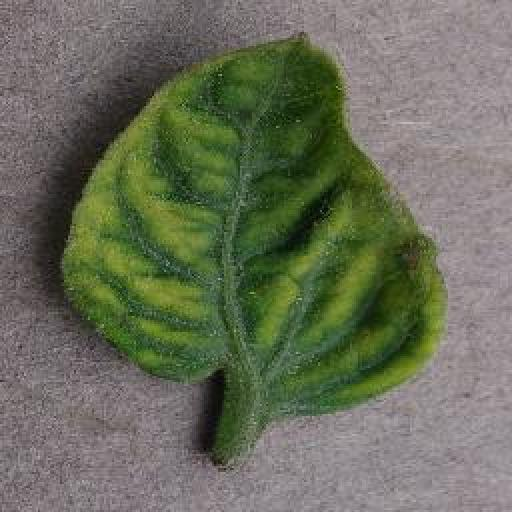disease_tomato: (55, 36, 448, 419)
